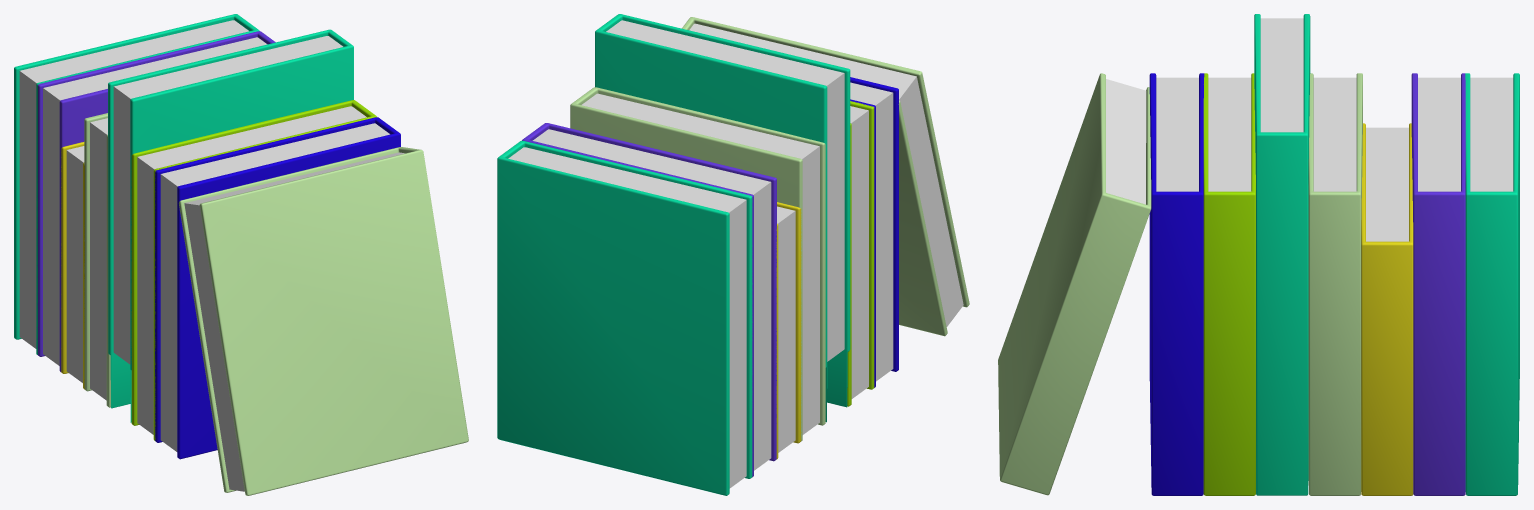
Rendered from ksiazki_fast1.fbx.
The picture shows the model from 3 angles, left to right: view 1: azimuth 30°, elevation 25°; view 2: azimuth 150°, elevation 25°; view 3: azimuth 270°, elevation 25°; orthographic projection. The views are drawn at different scales.
Parts seen in each view (by area): view 1: Cube.007; view 2: Cube.007; view 3: Cube.007.
Part boxes in pixels (left/top/right/bottom): Cube.007: left=14, top=14, right=468, bottom=495; Cube.007: left=497, top=14, right=969, bottom=495; Cube.007: left=998, top=14, right=1519, bottom=495.
Bounding box in the file's own units: 172 × 239 × 312.
